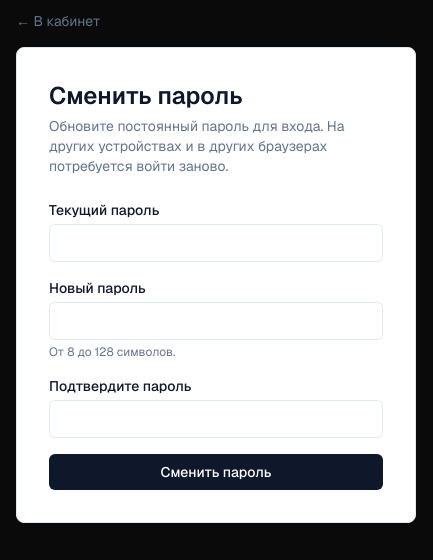
Scenario: PasswordClient › с паролем: шлёт currentPassword и показывает ошибку неверного текущего
This screenshot has width=433, height=560.
Type "oldPassword" into the password field labelled "Текущий пароль" at {"x": 216, "y": 243}, box [49,224,383,262]
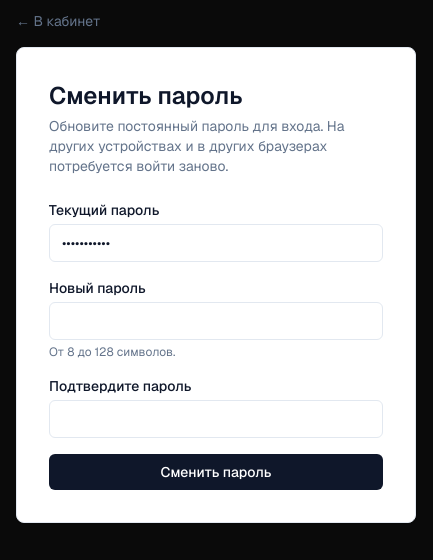
Type "newPassword1" into the password field labelled "Новый пароль" at {"x": 216, "y": 321}, box [49,302,383,340]
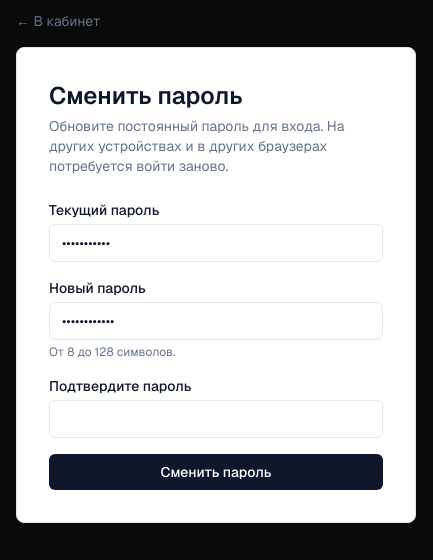
Type "newPassword1" into the password field labelled "Подтвердите пароль" at {"x": 216, "y": 419}, box [49,400,383,438]
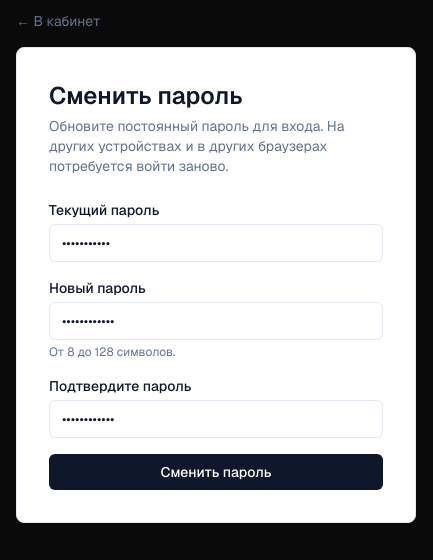
Submit the form, box [49,200,383,490]
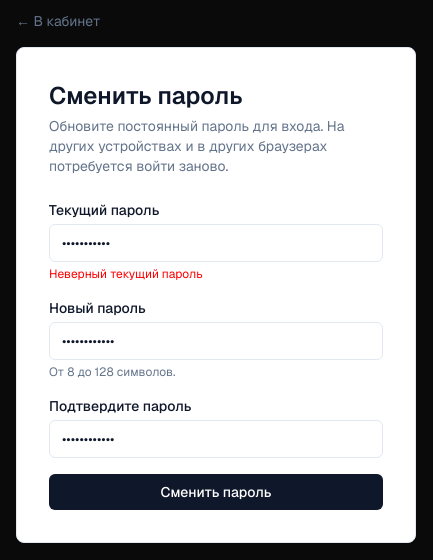
Check: the text "Неверный текущий пароль" is shown, box [49,266,203,282]
